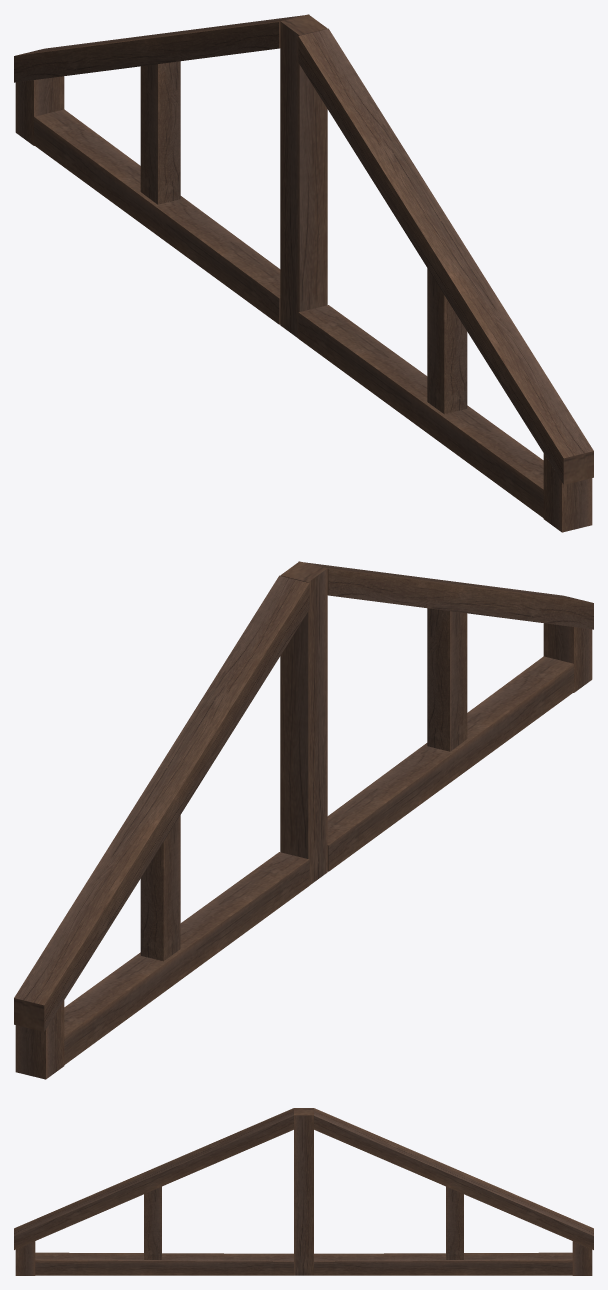
The model's file is yane_frame_2.5t_1f_2.fbx.
3 renders of one model, top to bottom at view 1: azimuth 30°, elevation 25°; view 2: azimuth 150°, elevation 25°; view 3: azimuth 270°, elevation 25°, orthographic. The views are drawn at different scales.
Visible parts, largest first — view 1: yane_frame_2.5t_1f_2; view 2: yane_frame_2.5t_1f_2; view 3: yane_frame_2.5t_1f_2.
Part boxes in pixels (x1,y1,x2,y2): yane_frame_2.5t_1f_2: (14, 14, 593, 532); yane_frame_2.5t_1f_2: (14, 561, 593, 1079); yane_frame_2.5t_1f_2: (14, 1108, 593, 1275).
Size of the model in its own units: 18.18 by 175 by 572.
